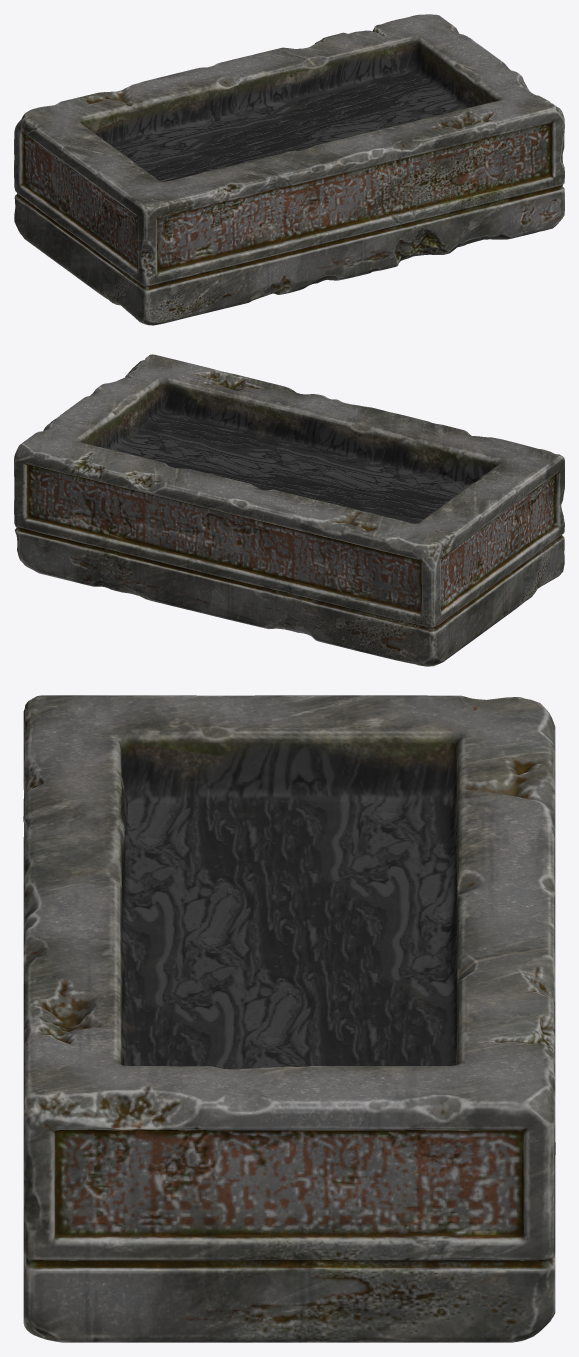
The model's file is SM_FirePit_A.fbx.
3 renders of one model, top to bottom at view 1: azimuth 30°, elevation 25°; view 2: azimuth 150°, elevation 25°; view 3: azimuth 270°, elevation 25°, orthographic. The views are drawn at different scales.
Visible parts, largest first — view 1: SM_FirePit_A_LOD0; view 2: SM_FirePit_A_LOD0; view 3: SM_FirePit_A_LOD0.
Boxes of the visible parts, box(x1,y1,x2,y2) form: SM_FirePit_A_LOD0: box(14, 14, 564, 325); SM_FirePit_A_LOD0: box(14, 354, 564, 666); SM_FirePit_A_LOD0: box(23, 695, 555, 1342).
Bounding box in the file's own units: 370 × 202 × 102.
